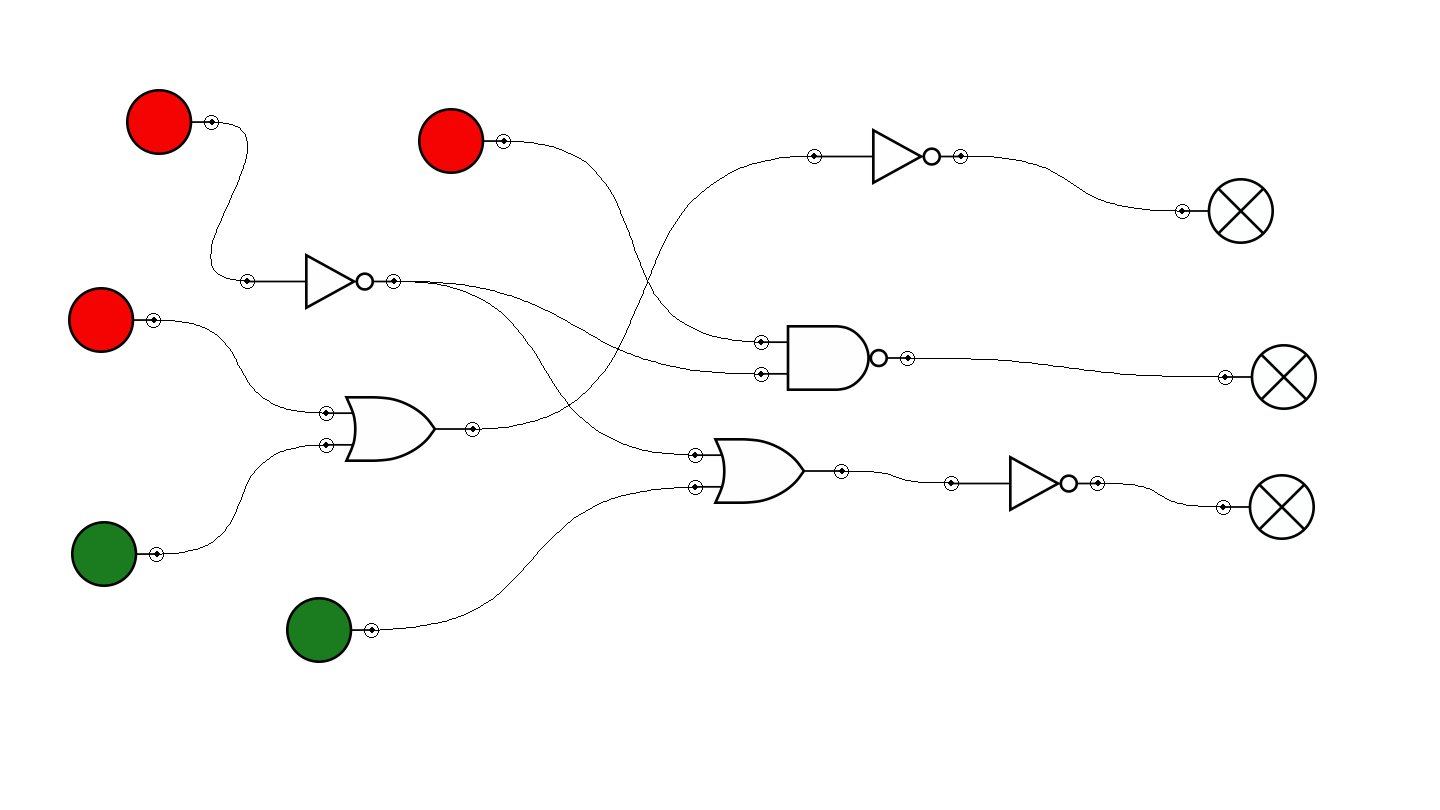bulb: (1175, 178, 1274, 244), (1216, 474, 1315, 540), (1218, 344, 1317, 410)
nand: (754, 325, 915, 391)
not: (240, 253, 401, 310), (944, 455, 1105, 512), (807, 128, 968, 185)
or: (688, 438, 849, 504), (319, 396, 480, 462)
switch_False: (418, 108, 511, 174), (68, 287, 161, 353), (126, 89, 219, 155)
switch_True: (71, 521, 164, 587), (286, 597, 379, 663)
